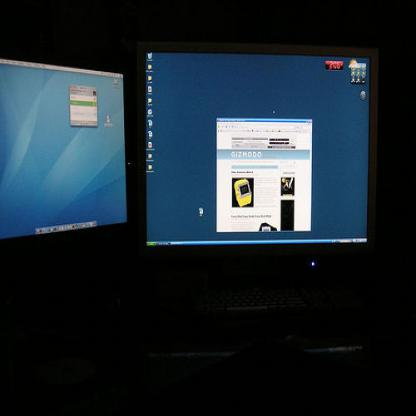tvmonitor: (136, 40, 380, 262), (0, 48, 133, 254)
